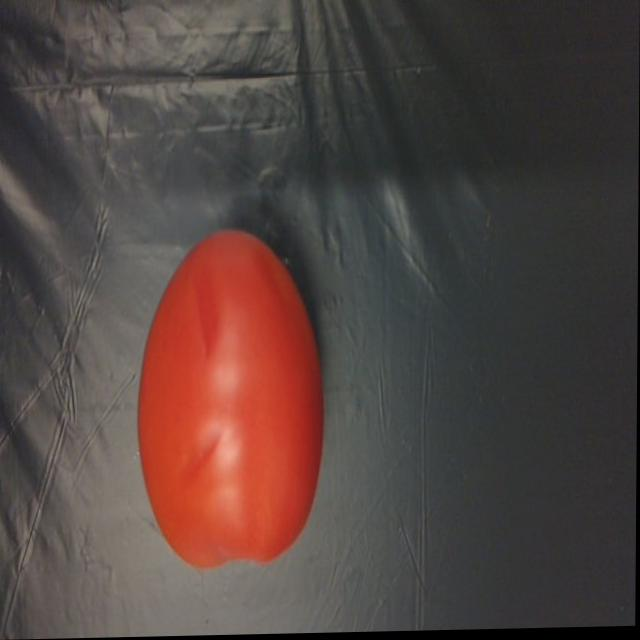kirmizi: (134, 232, 334, 579)
